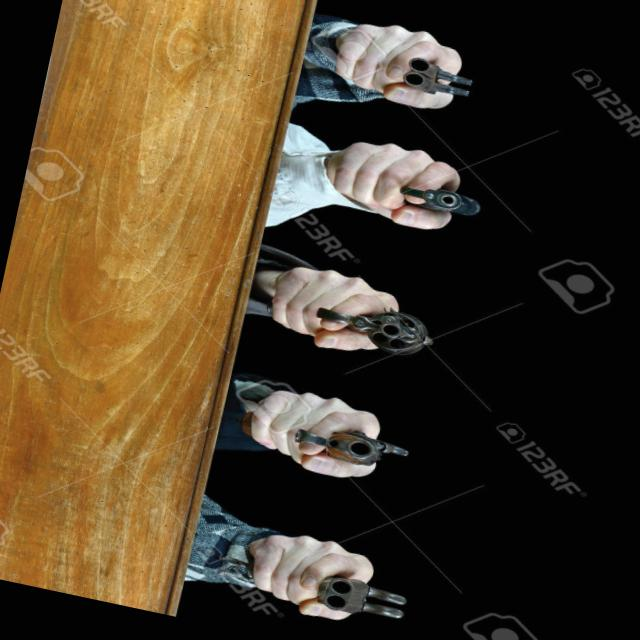handgun: (230, 410, 412, 476), (296, 291, 441, 361), (388, 174, 482, 219)
